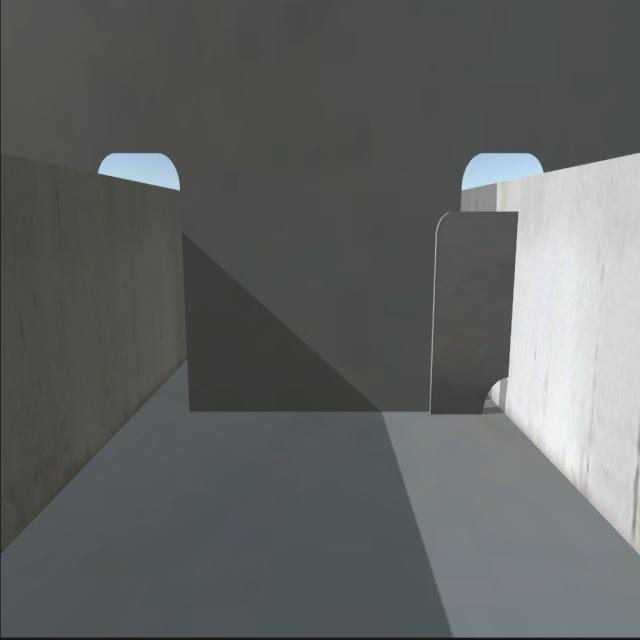fillet_hole: (480, 372, 508, 412)
fillet_yong_jeop_jang: (179, 397, 483, 418)
longi_yong_jeop_jang: (506, 210, 522, 374)
plate_CP05: (432, 205, 513, 412)
